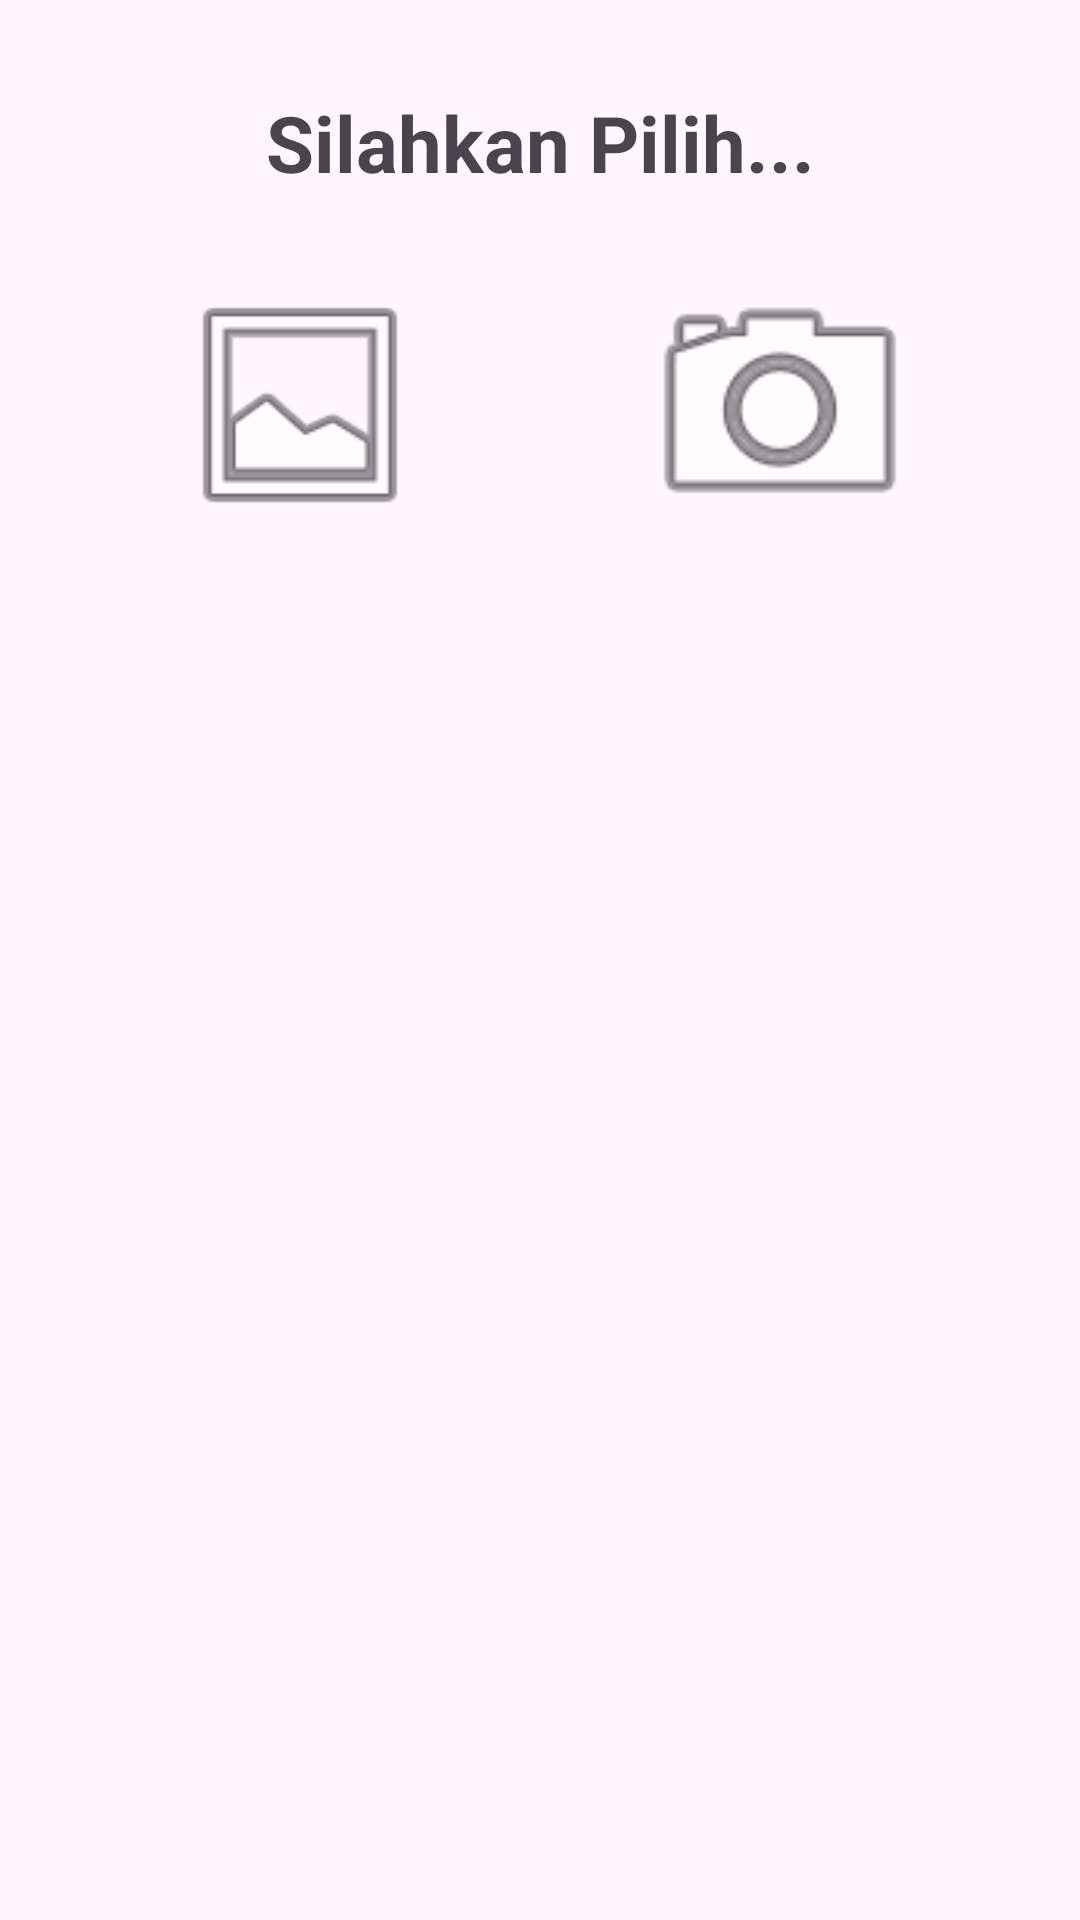

Icons on this 1080 × 1920 Android screen, each with the point to tap as [x,y]:
camera: [780,400]
gallery: [300,405]
